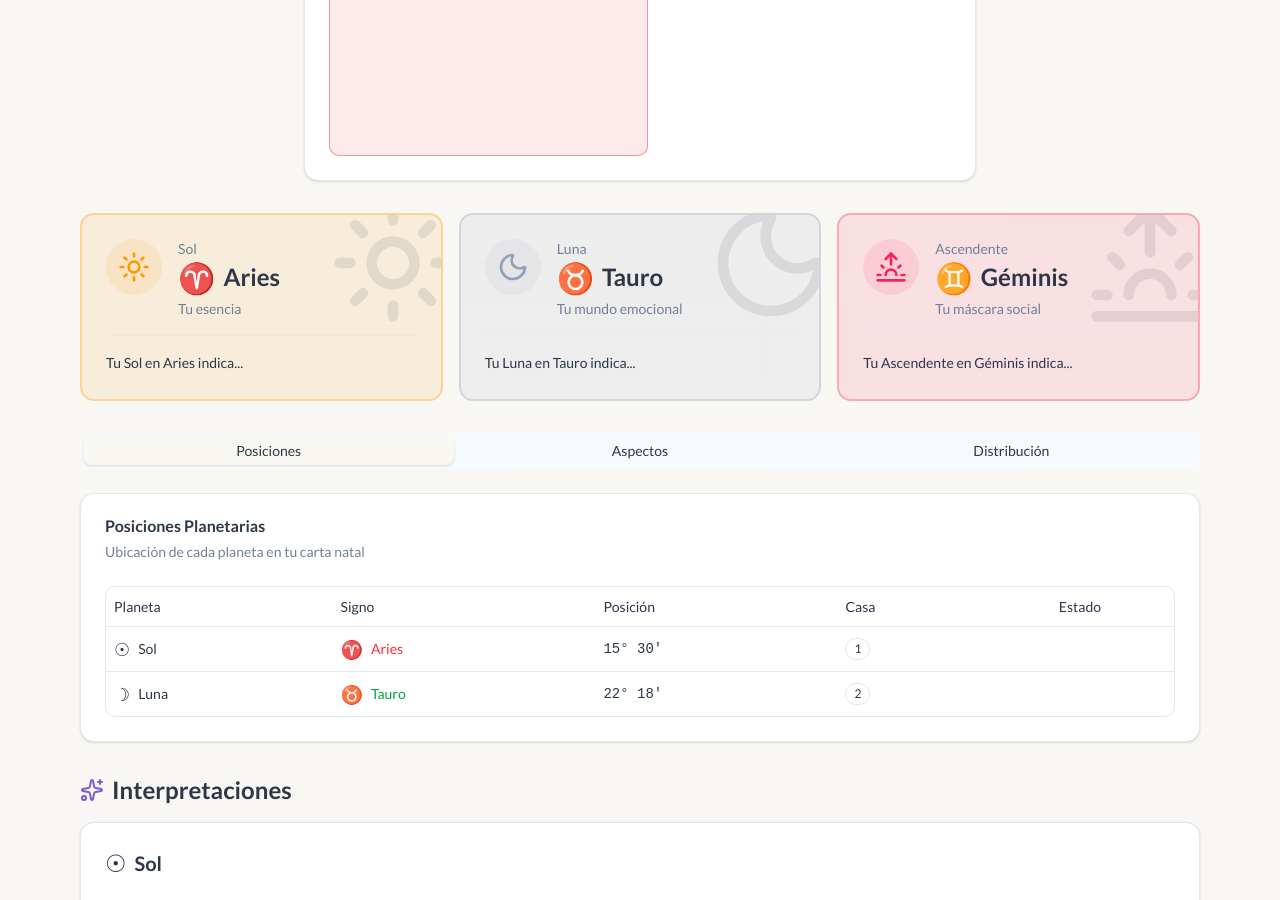
Test case: SavedChartPage › Success state › should show aspects table when aspects tab is clicked
This screenshot has width=1280, height=900.
(page scrolled)
Click the tab "Aspectos": (640, 451) [454, 436, 826, 465]
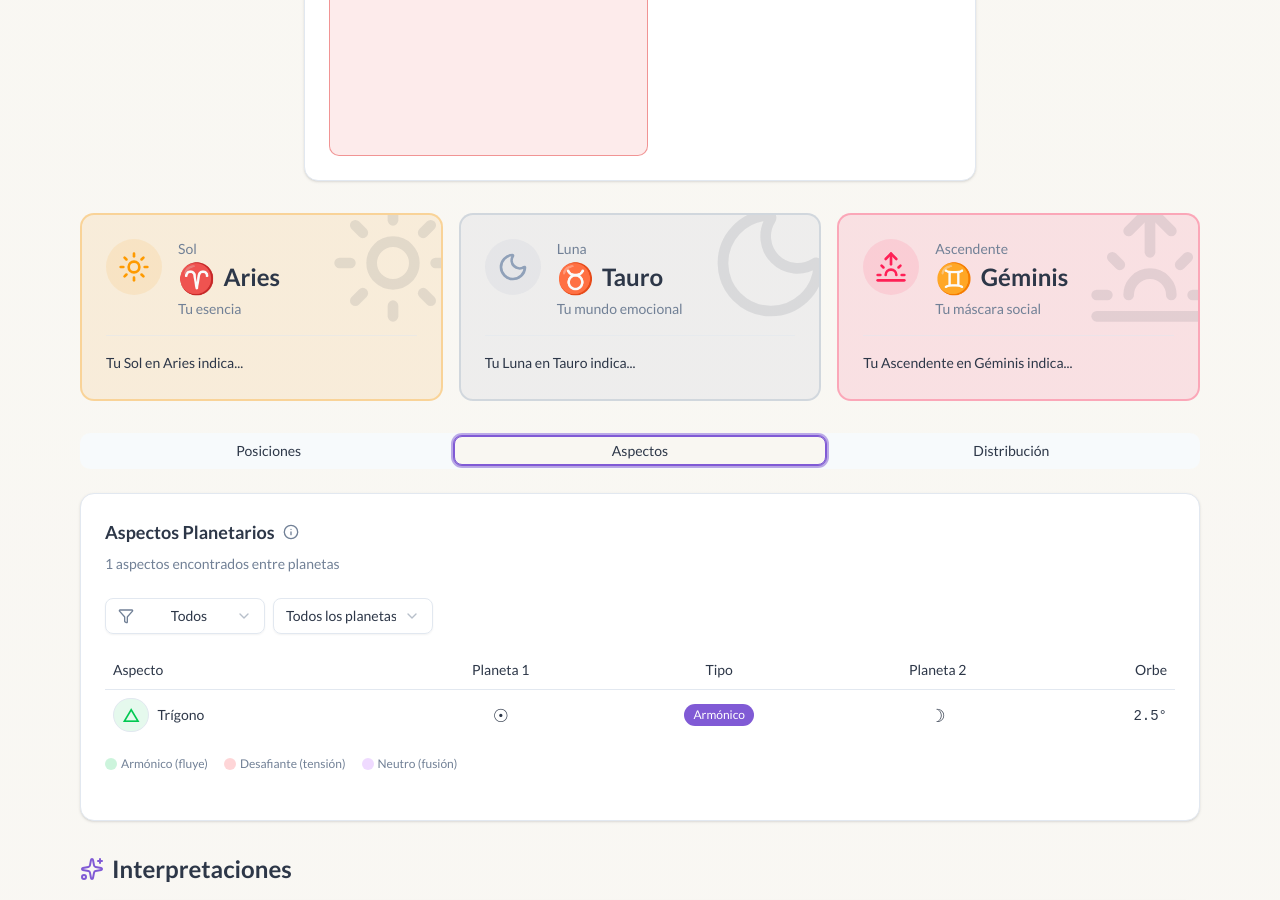
Expected: the text "Trígono" is shown, [157, 705, 204, 725]
